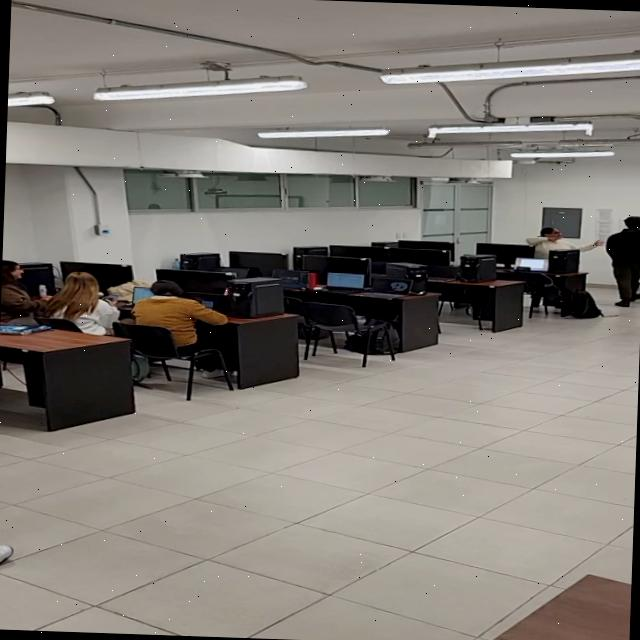Persona: (601, 213, 640, 308)
